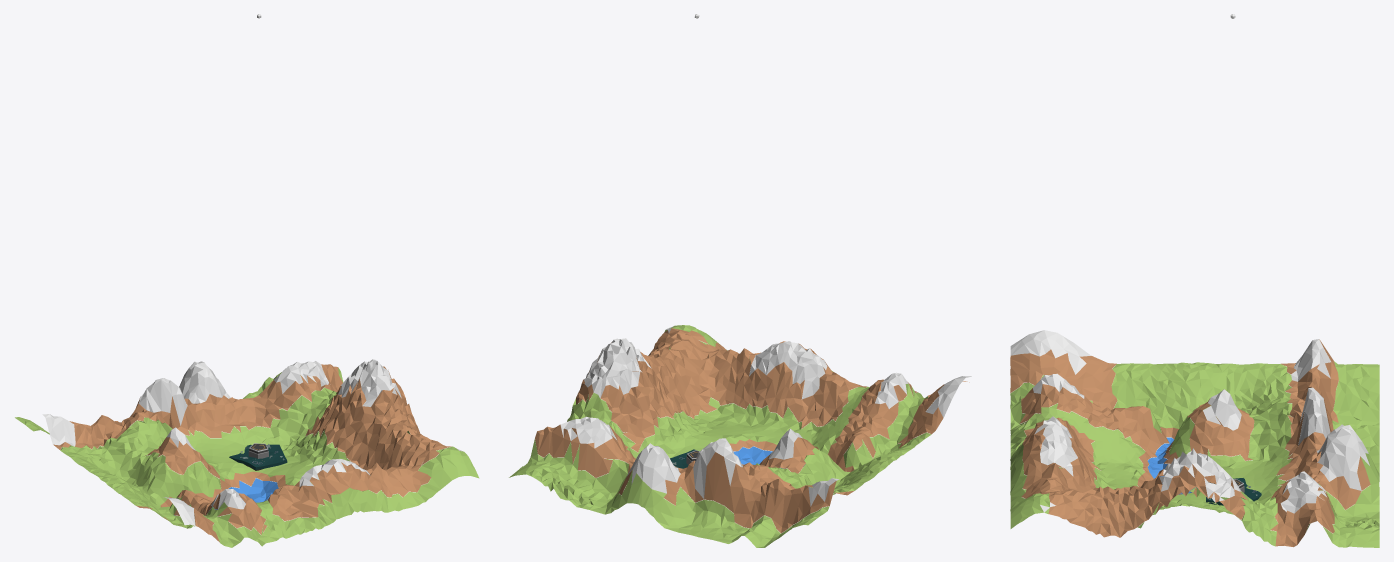
The model's file is mountainlanding.glb.
3 renders of one model, left to right at view 1: azimuth 30°, elevation 25°; view 2: azimuth 150°, elevation 25°; view 3: azimuth 270°, elevation 25°, orthographic. The views are drawn at different scales.
Parts seen in each view (by area): view 1: Grid-Mesh_2, Grid-Mesh, Grid-Mesh_1, GroundTop, Grid-Mesh_3; view 2: Grid-Mesh_2, Grid-Mesh, Grid-Mesh_1; view 3: Grid-Mesh, Grid-Mesh_2, Grid-Mesh_1, Grid-Mesh_3.
Part boxes in pixels (x1=…): Grid-Mesh_2: x1=53, y1=364, x2=451, y2=542; Grid-Mesh: x1=15, y1=368, x2=479, y2=547; Grid-Mesh_1: x1=42, y1=359, x2=463, y2=525; GroundTop: x1=229, y1=444, x2=287, y2=469; Grid-Mesh_3: x1=174, y1=478, x2=278, y2=515; Grid-Mesh_2: x1=535, y1=328, x2=969, y2=533; Grid-Mesh: x1=509, y1=325, x2=931, y2=547; Grid-Mesh_1: x1=560, y1=326, x2=971, y2=506; Grid-Mesh: x1=1010, y1=361, x2=1379, y2=547; Grid-Mesh_2: x1=1010, y1=339, x2=1370, y2=547; Grid-Mesh_1: x1=1010, y1=330, x2=1369, y2=513; Grid-Mesh_3: x1=1147, y1=437, x2=1197, y2=494.
Size of the model in its own units: 20.07 by 30.15 by 20.04.
